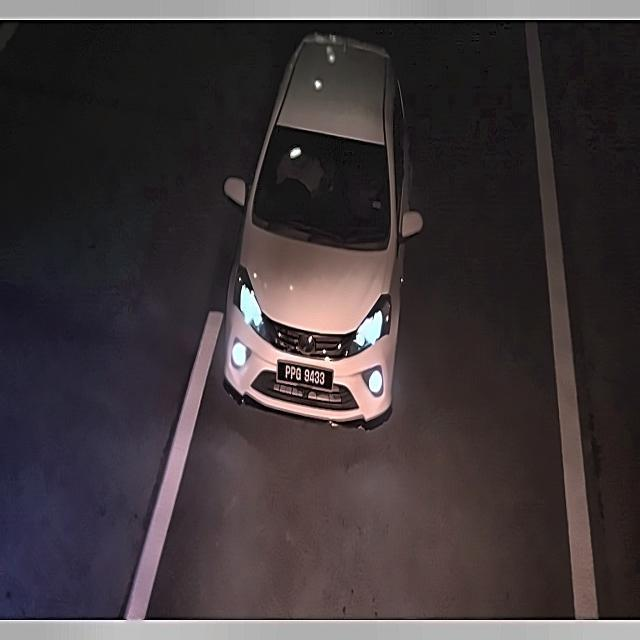car: (274, 356, 336, 396)
